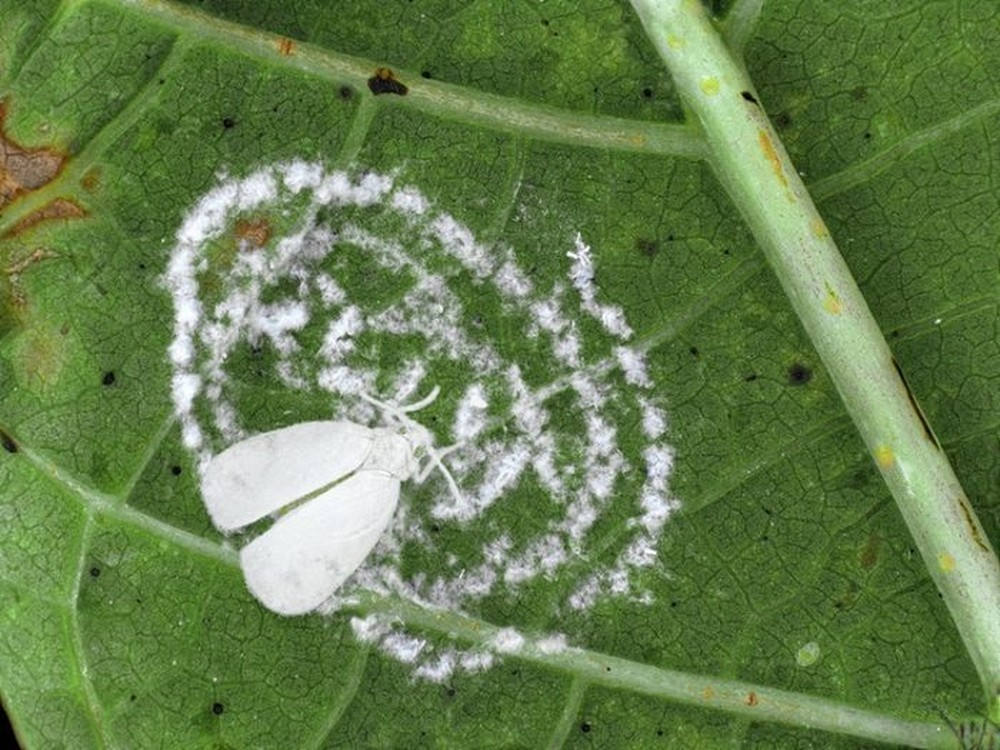Mosca Blanca: (174, 390, 485, 617)
